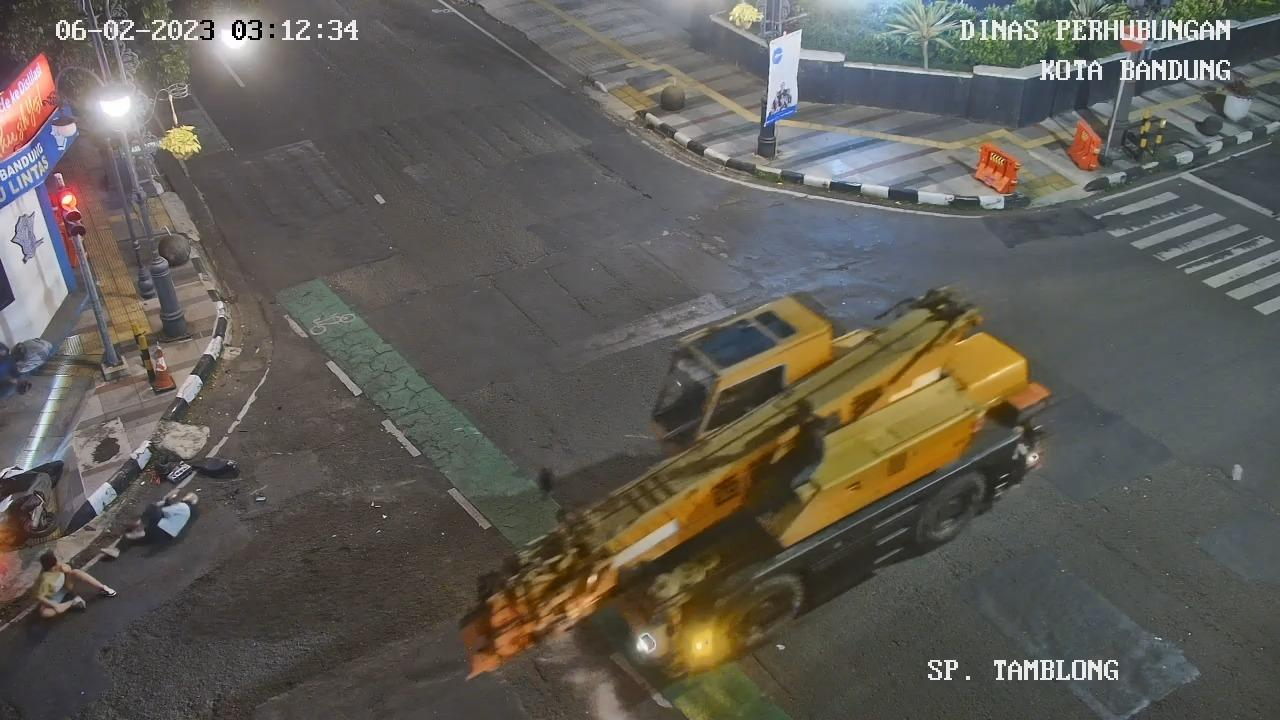accident: (27, 546, 117, 626), (103, 489, 201, 559)
